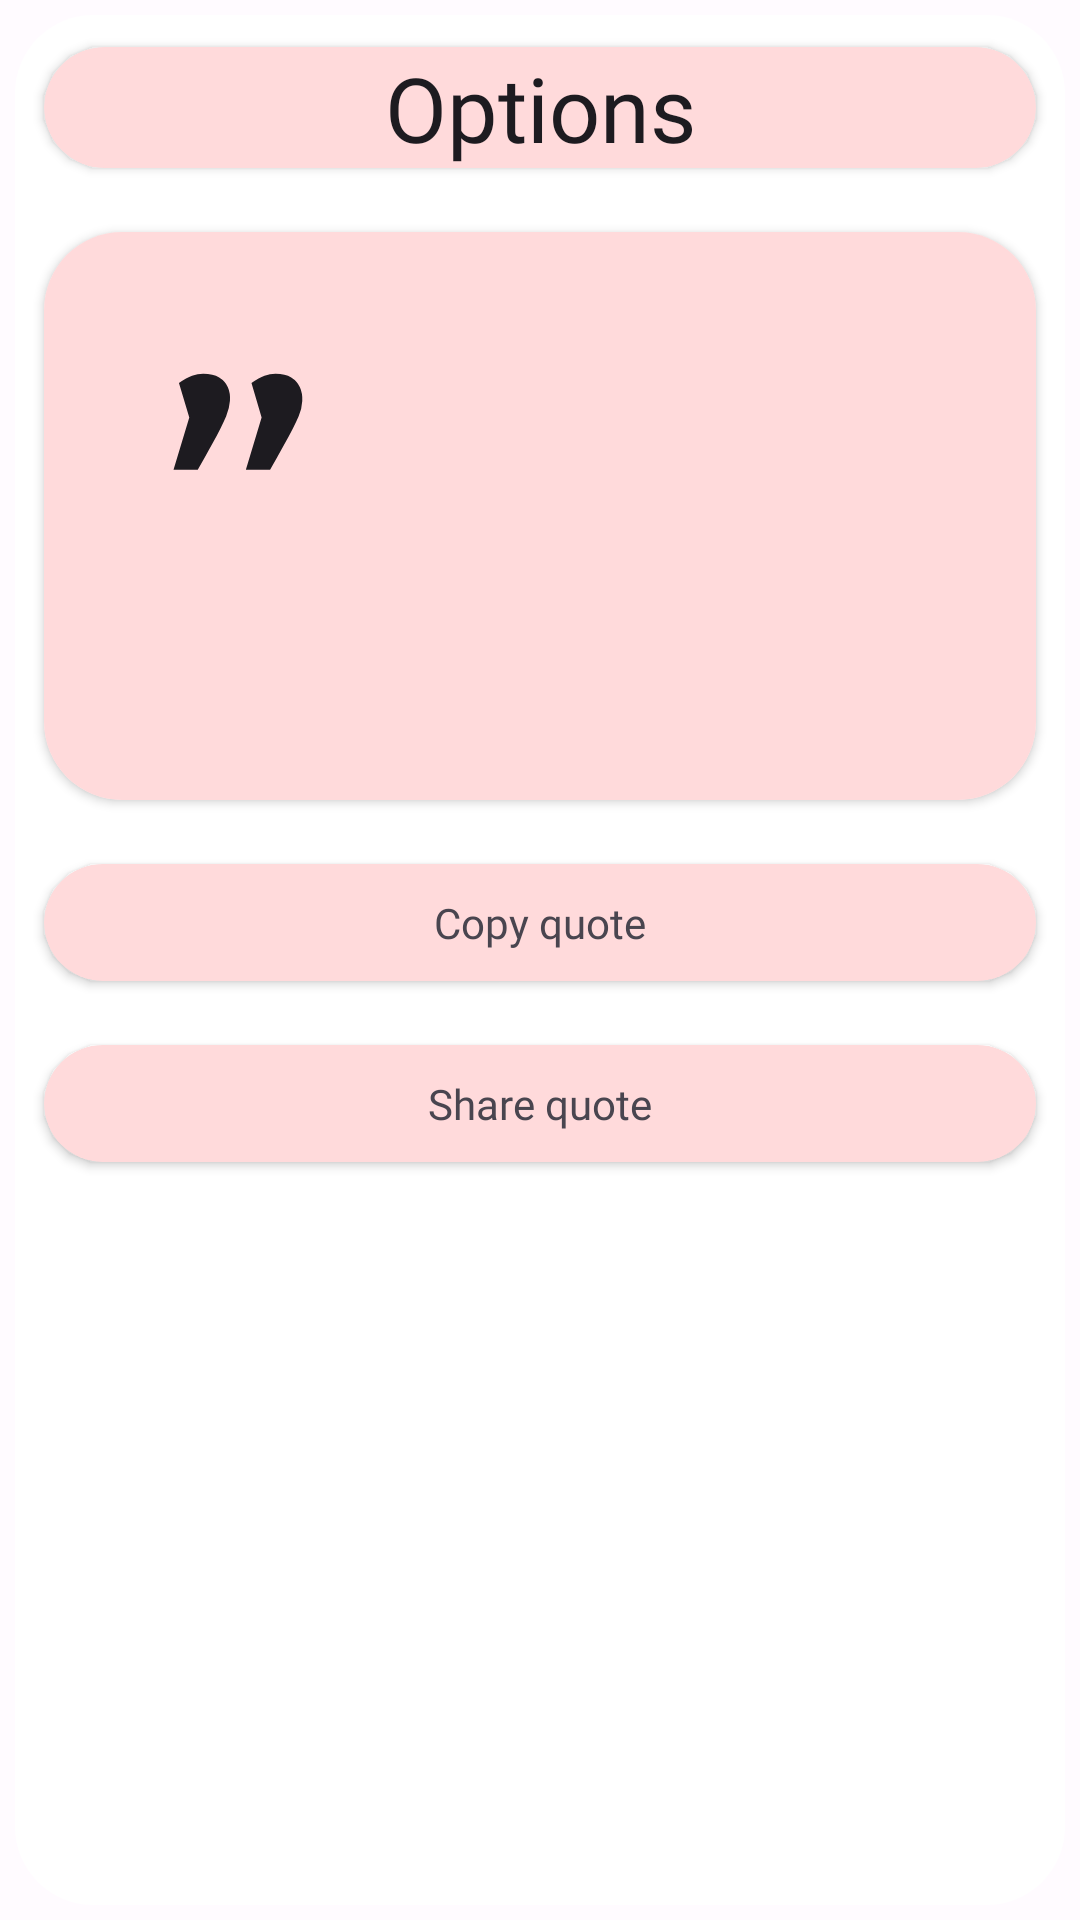

Named icons in this screenshot (1080*1920) and their bounding boxes, (x1, y1, x2, y2):
quote: (173, 373, 303, 470)
